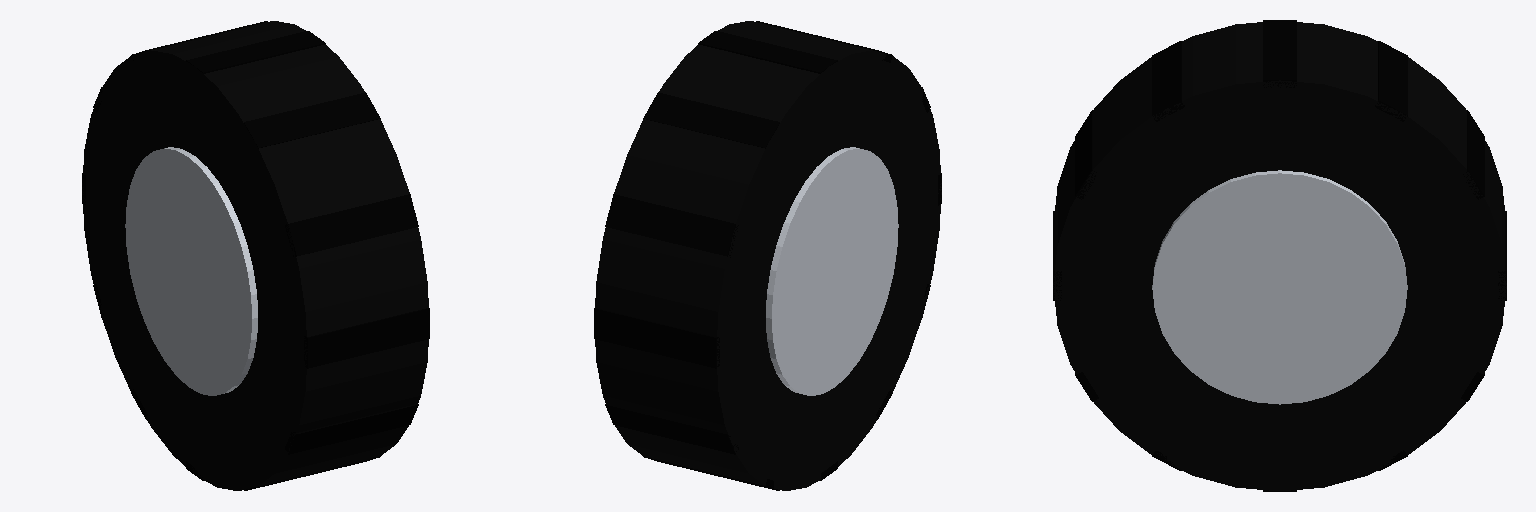
The robot description file, URDF, robot "wheel_robot":
<?xml version="1.0"?>
<robot name="wheel_robot">

	<material name="tire">
		<color rgba="0.06 0.06 0.06 1.0"/>
	</material>

	<material name="tire_rib">
		<color rgba="0.03 0.03 0.03 1.0"/>
	</material>

	<material name="rim">
		<color rgba="0.80 0.82 0.85 1.0"/>
	</material>

	<link name="wheel">
		<visual>
			<origin xyz="0 0 0" rpy="0 1.5707963 0"/>
			<geometry>
				<cylinder radius="1.600" length="1.00"/>
			</geometry>
			<material name="tire"/>
		</visual>

		<visual>
			<origin xyz="0 1.57000 0.00000" rpy="0 0 0"/>
			<geometry>
				<box size="1.000 0.060 0.240"/>
			</geometry>
			<material name="tire_rib"/>
		</visual>

		<visual>
			<origin xyz="0 1.35970 0.78500" rpy="0.5235988 0 0"/>
			<geometry>
				<box size="1.000 0.060 0.240"/>
			</geometry>
			<material name="tire_rib"/>
		</visual>

		<visual>
			<origin xyz="0 0.78500 1.35970" rpy="1.0471976 0 0"/>
			<geometry>
				<box size="1.000 0.060 0.240"/>
			</geometry>
			<material name="tire_rib"/>
		</visual>

		<visual>
			<origin xyz="0 0.00000 1.57000" rpy="1.5707963 0 0"/>
			<geometry>
				<box size="1.000 0.060 0.240"/>
			</geometry>
			<material name="tire_rib"/>
		</visual>

		<visual>
			<origin xyz="0 -0.78500 1.35970" rpy="2.0943951 0 0"/>
			<geometry>
				<box size="1.000 0.060 0.240"/>
			</geometry>
			<material name="tire_rib"/>
		</visual>

		<visual>
			<origin xyz="0 -1.35970 0.78500" rpy="2.6179939 0 0"/>
			<geometry>
				<box size="1.000 0.060 0.240"/>
			</geometry>
			<material name="tire_rib"/>
		</visual>

		<visual>
			<origin xyz="0 -1.57000 0.00000" rpy="3.1415927 0 0"/>
			<geometry>
				<box size="1.000 0.060 0.240"/>
			</geometry>
			<material name="tire_rib"/>
		</visual>

		<visual>
			<origin xyz="0 -1.35970 -0.78500" rpy="-2.6179939 0 0"/>
			<geometry>
				<box size="1.000 0.060 0.240"/>
			</geometry>
			<material name="tire_rib"/>
		</visual>

		<visual>
			<origin xyz="0 -0.78500 -1.35970" rpy="-2.0943951 0 0"/>
			<geometry>
				<box size="1.000 0.060 0.240"/>
			</geometry>
			<material name="tire_rib"/>
		</visual>

		<visual>
			<origin xyz="0 0.00000 -1.57000" rpy="-1.5707963 0 0"/>
			<geometry>
				<box size="1.000 0.060 0.240"/>
			</geometry>
			<material name="tire_rib"/>
		</visual>

		<visual>
			<origin xyz="0 0.78500 -1.35970" rpy="-1.0471976 0 0"/>
			<geometry>
				<box size="1.000 0.060 0.240"/>
			</geometry>
			<material name="tire_rib"/>
		</visual>

		<visual>
			<origin xyz="0 1.35970 -0.78500" rpy="-0.5235988 0 0"/>
			<geometry>
				<box size="1.000 0.060 0.240"/>
			</geometry>
			<material name="tire_rib"/>
		</visual>

		<visual>
			<origin xyz="0 0 0" rpy="0 1.5707963 0"/>
			<geometry>
				<cylinder radius="0.90" length="1.10"/>
			</geometry>
			<material name="rim"/>
		</visual>

		<collision>
			<origin xyz="0 0 0" rpy="0 1.5707963 0"/>
			<geometry>
				<cylinder radius="1.60" length="1.00"/>
			</geometry>
		</collision>

		<inertial>
			<origin xyz="0 0 0" rpy="0 0 0"/>
			<mass value="1.8"/>
			<inertia ixx="0.012" ixy="0" ixz="0" iyy="0.020" iyz="0" izz="0.020"/>
		</inertial>
	</link>

</robot>

--- Render facts (derived) ---
3 views of the same robot in one strip: view 1: azimuth 30°, elevation 25°; view 2: azimuth 150°, elevation 25°; view 3: azimuth 270°, elevation 25° (orthographic).
Robot: wheel_robot — 1 links, 0 joints (none); root link wheel; default pose: all joints at 0.
Links seen in each view (by area): view 1: wheel; view 2: wheel; view 3: wheel.
Boxes of the visible links, <box> form: wheel: <box>82,21,429,490</box>; wheel: <box>594,21,941,490</box>; wheel: <box>1053,20,1506,491</box>.
Bounding box of the posed robot: 1.1 × 3.2 × 3.2 m (x, y, z).
Geometry: primitives only (box / cylinder / sphere), no mesh files.
